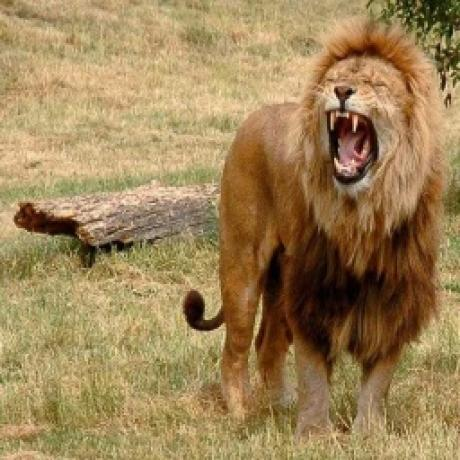Lion: (182, 20, 448, 426)
